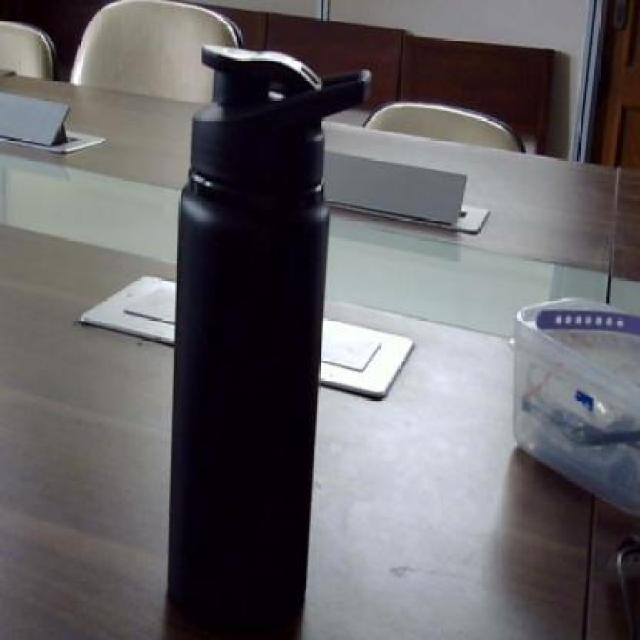Metal: (153, 172, 342, 633)
